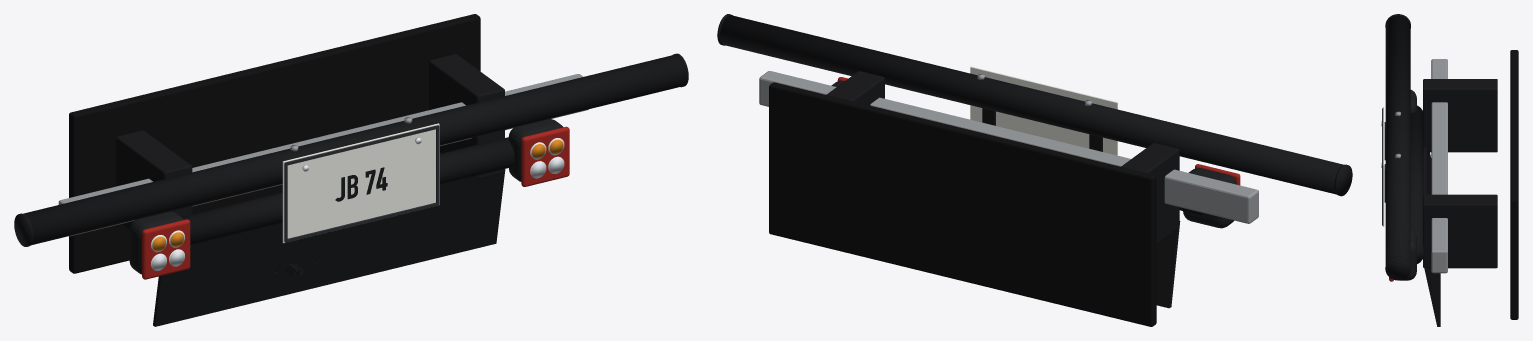
Rendered from frontBumper_tube_heritage.glb.
The picture shows the model from 3 angles, left to right: view 1: azimuth 30°, elevation 25°; view 2: azimuth 150°, elevation 25°; view 3: azimuth 270°, elevation 25°; orthographic projection. The views are drawn at different scales.
Visible parts, largest first — view 1: bay, panel.004, upper.001, plate.002, lower.001, leg1, leg-1, crossmember, podBezel1, podBezel-1, pod-1, pod1 (+4 smaller); view 2: bay, upper.001, crossmember, plate.002, leg-1, panel.004, leg1, pod-1, capU-1; view 3: upper.001, leg1, leg-1, crossmember, bay, lower.001, panel.004, capU1, pod1, plate.002, pod-1.
Part boxes in pixels (x1,y1,x2,y2): bay: (69, 14, 480, 273); panel.004: (153, 169, 505, 326); upper.001: (24, 54, 685, 245); plate.002: (282, 123, 439, 243); lower.001: (182, 137, 514, 245); leg1: (428, 54, 504, 179); leg-1: (115, 130, 192, 249); crossmember: (58, 74, 588, 236); podBezel1: (521, 126, 569, 186); podBezel-1: (142, 219, 190, 279); pod-1: (129, 211, 183, 274); pod1: (508, 118, 563, 181); bay: (769, 82, 1156, 326); upper.001: (720, 15, 1343, 194); crossmember: (759, 71, 1258, 223); plate.002: (970, 66, 1117, 155); leg-1: (1121, 143, 1179, 243); panel.004: (1156, 221, 1180, 308); leg1: (826, 71, 884, 105); pod-1: (1183, 168, 1236, 228); capU-1: (1334, 164, 1352, 196); upper.001: (1385, 15, 1410, 264); leg1: (1423, 194, 1497, 268); leg-1: (1423, 79, 1497, 152); crossmember: (1431, 59, 1447, 273); bay: (1510, 50, 1518, 319); lower.001: (1410, 105, 1423, 263); panel.004: (1423, 147, 1440, 326); capU1: (1385, 256, 1410, 280); pod1: (1399, 230, 1416, 280); plate.002: (1383, 107, 1384, 226); pod-1: (1410, 90, 1416, 113).
Size of the model in its own units: 1.39 by 0.37 by 0.3305.
